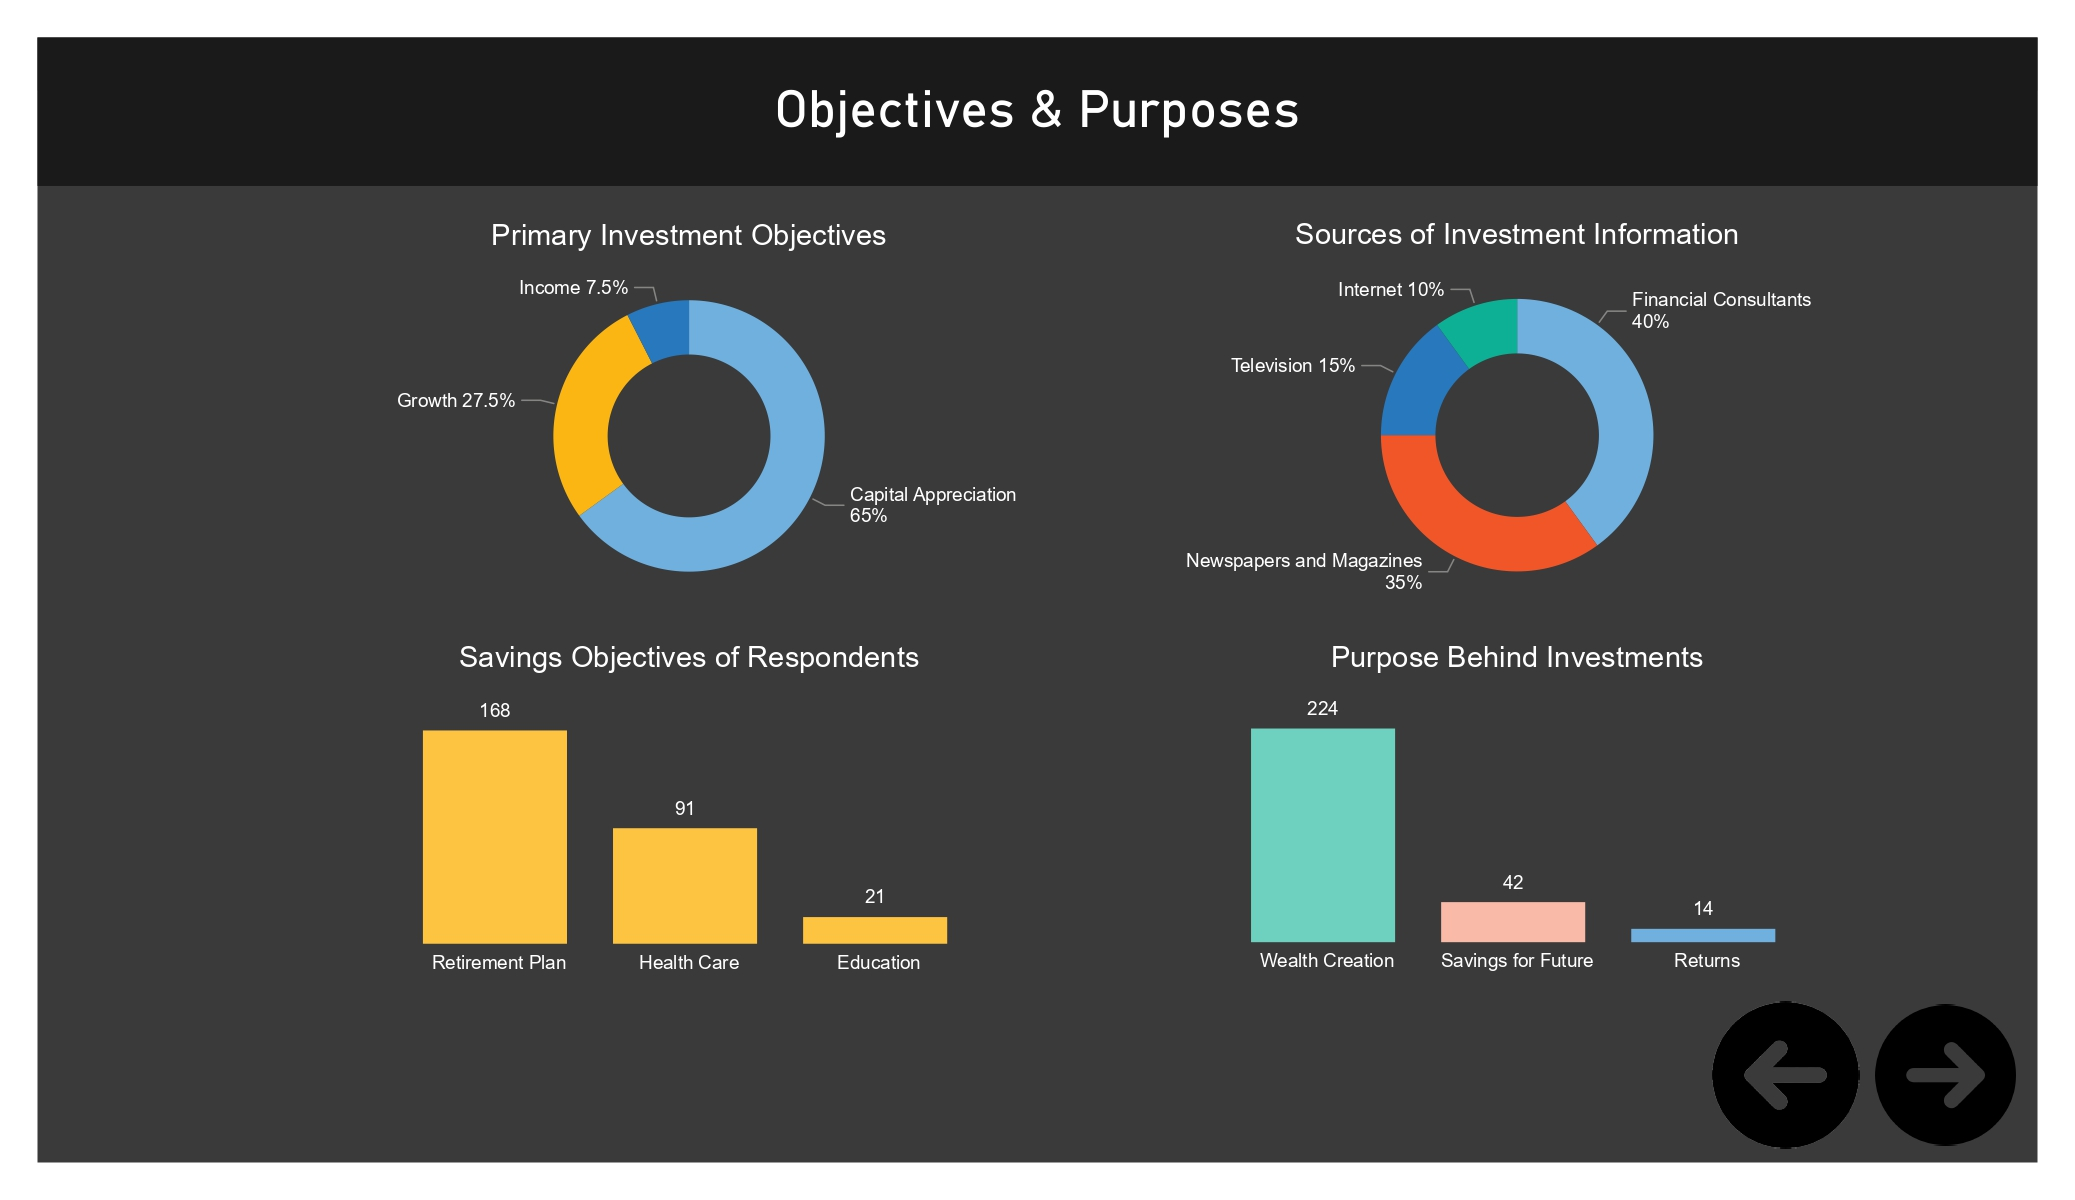

What the dashboard file says about the page in this screenshot:
{"tool":"powerbi","page":{"name":"Objectives & Purposes","canvas":[1280,720],"ordinal":3},"visuals":[{"type":"shape","box":[0,0,1280,95],"z":0},{"type":"textbox","title":"Finance Data Analyst","box":[367.4,20.5,545.2,56.4],"z":1000},{"type":"donutChart","title":"Primary Investment Objectives","fields":{"Category":["Finance_data.Objective"],"Y":["CountNonNull(Finance_data.RespondentID)"]},"box":[192.8,116.2,447.9,256.5],"z":2000},{"type":"clusteredColumnChart","title":"Purpose Behind Investments","fields":{"Category":["Finance_data.Purpose"],"Y":["CountNonNull(Finance_data.RespondentID)"]},"box":[722.8,385.5,447.9,221.1],"z":3000},{"type":"columnChart","title":"Savings Objectives of Respondents","fields":{"Category":["Finance_data.Savings _Objectives"],"Y":["CountNonNull(Finance_data.RespondentID)"]},"box":[192.8,385.5,447.9,222.5],"z":4000},{"type":"donutChart","title":"Sources of Investment Information","fields":{"Y":["CountNonNull(Finance_data.RespondentID)"],"Category":["Finance_data.Source"]},"box":[722.8,114.8,447.9,258],"z":5000},{"type":"image","box":[1170.9,606.6,100.6,113.4],"z":6000},{"type":"image","box":[1067.4,606.6,103.5,113.4],"z":7000}]}

Visuals, with their boxes on the page's 1280x720 design canvas (x1, y1, x2, y2). These are canvas units, not pixel positions in the 2075x1200 screenshot, which may show the page scaled, cropped or inside an application window:
shape: [0,0,1280,95]
"Finance Data Analyst" textbox: [367,20,913,77]
"Primary Investment Objectives" donutChart: [193,116,641,373]
"Purpose Behind Investments" clusteredColumnChart: [723,386,1171,607]
"Savings Objectives of Respondents" columnChart: [193,386,641,608]
"Sources of Investment Information" donutChart: [723,115,1171,373]
image: [1171,607,1272,720]
image: [1067,607,1171,720]
